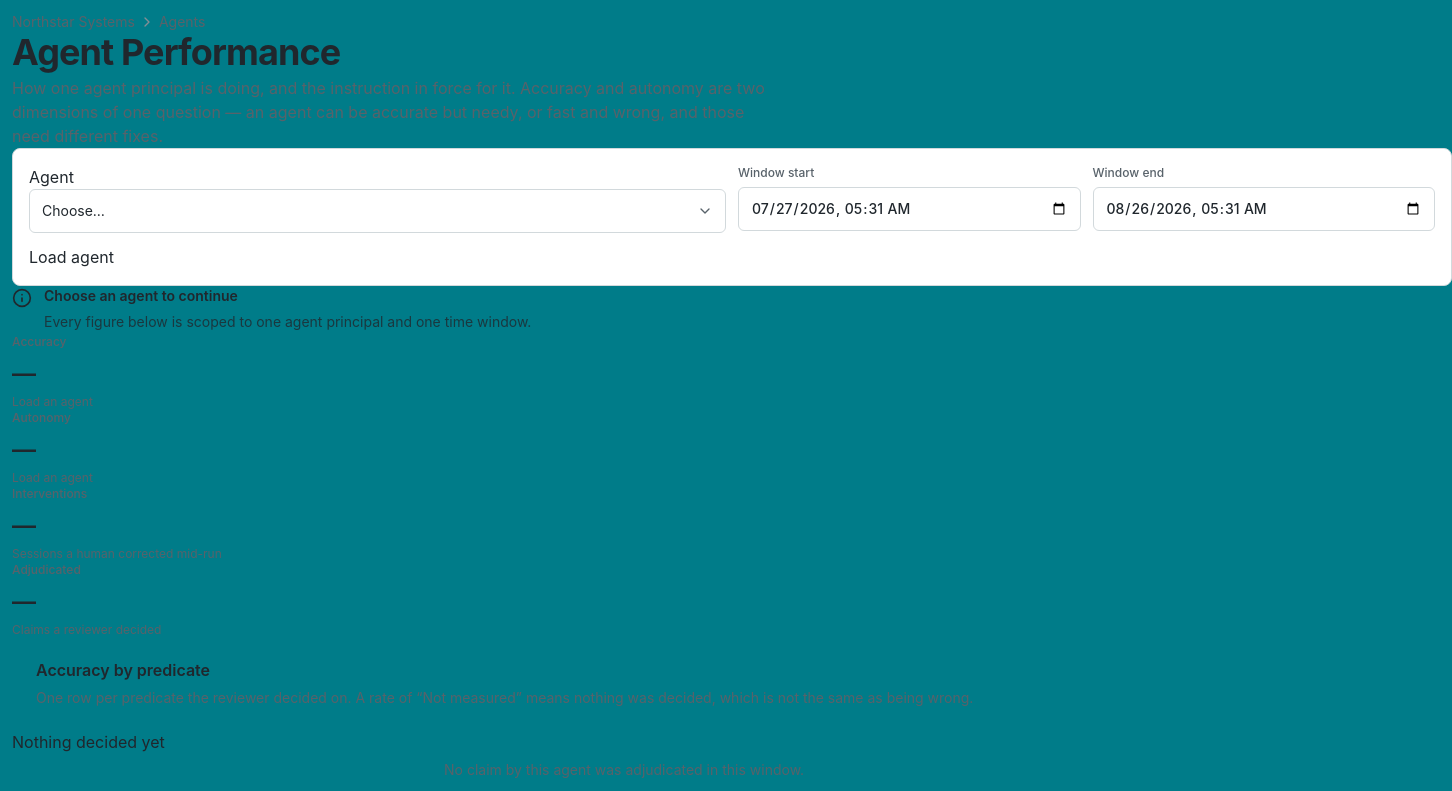
Test: AgentsPage › presents accuracy and autonomy together, with the counts behind each rate
The width and height of the screenshot is (1452, 791).
Click the button with aria-label "Agent" at (73, 210), box [29,189,726,233]
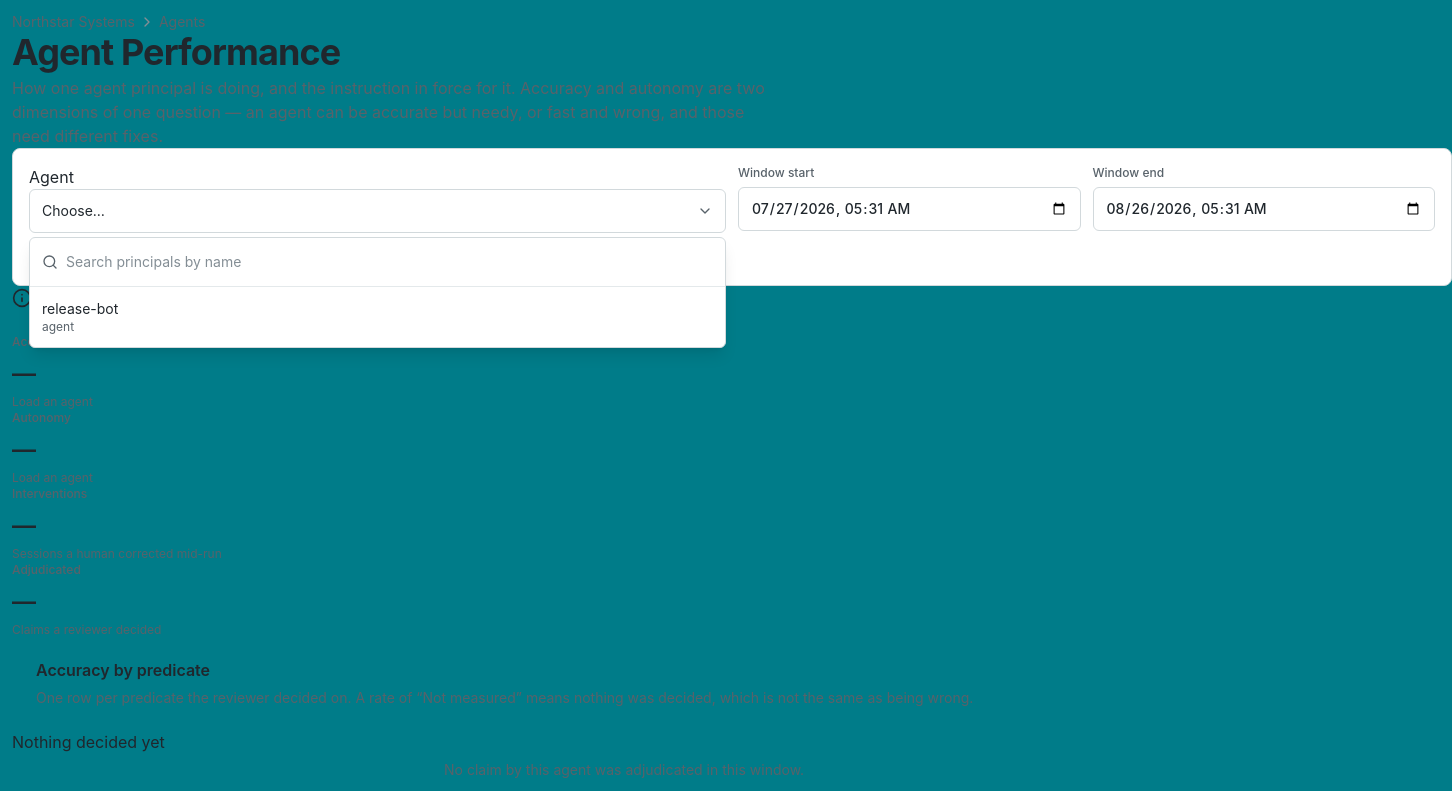
Click the option "release-bot agent" at (80, 308), box [30,291,725,343]
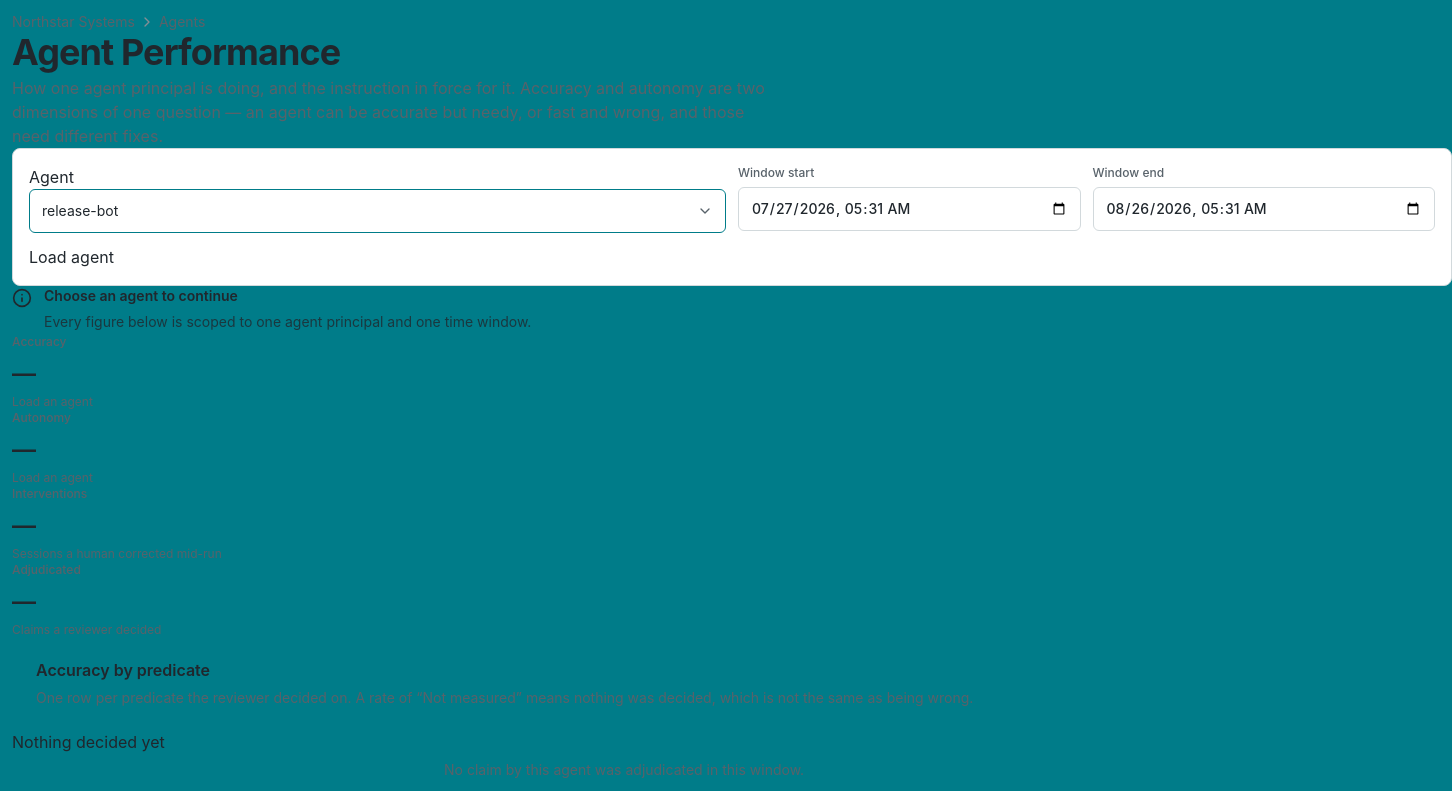
Click the button "Load agent" at (71, 257), box [29,245,114,269]
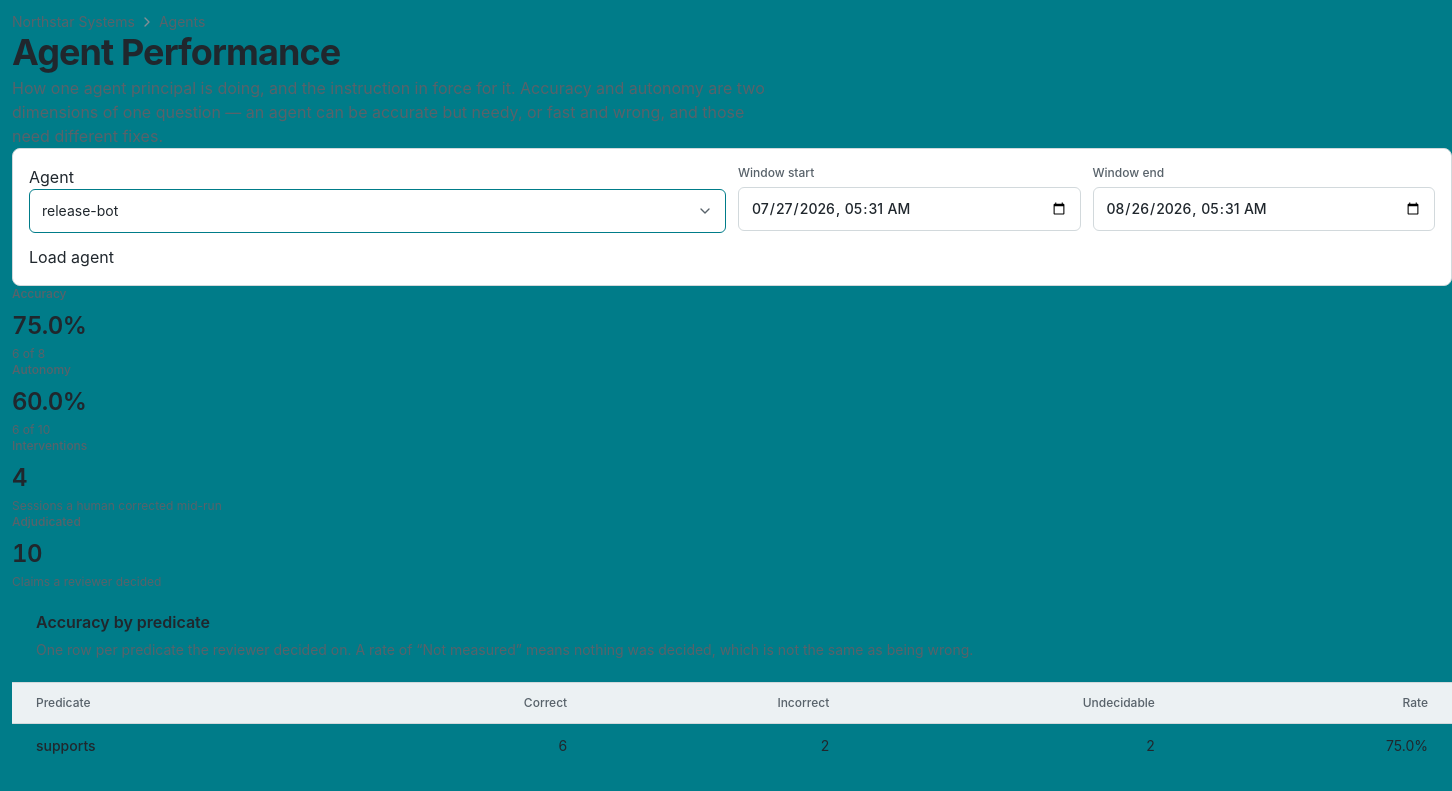
Result: the text "75.0%" is shown at [12,311,86,340]
Result: the text "60.0%" is shown at [12,387,86,416]
Result: the text "6 of 8" is shown at [12,346,45,361]
